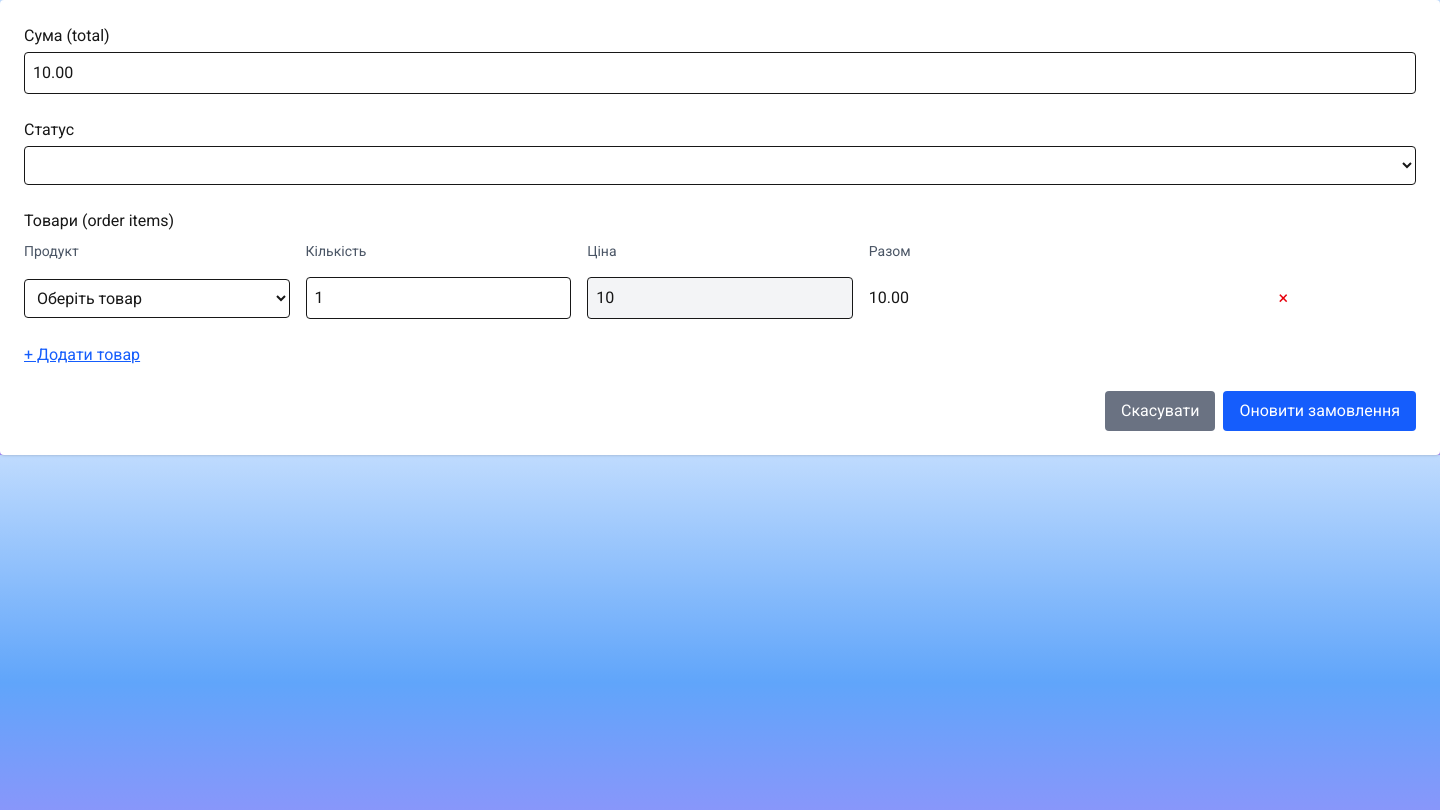
Scenario: OrderForm › видаляє товар зі списку
Click the button titled "Видалити": {"x": 1283, "y": 298} [1150,284,1416,312]
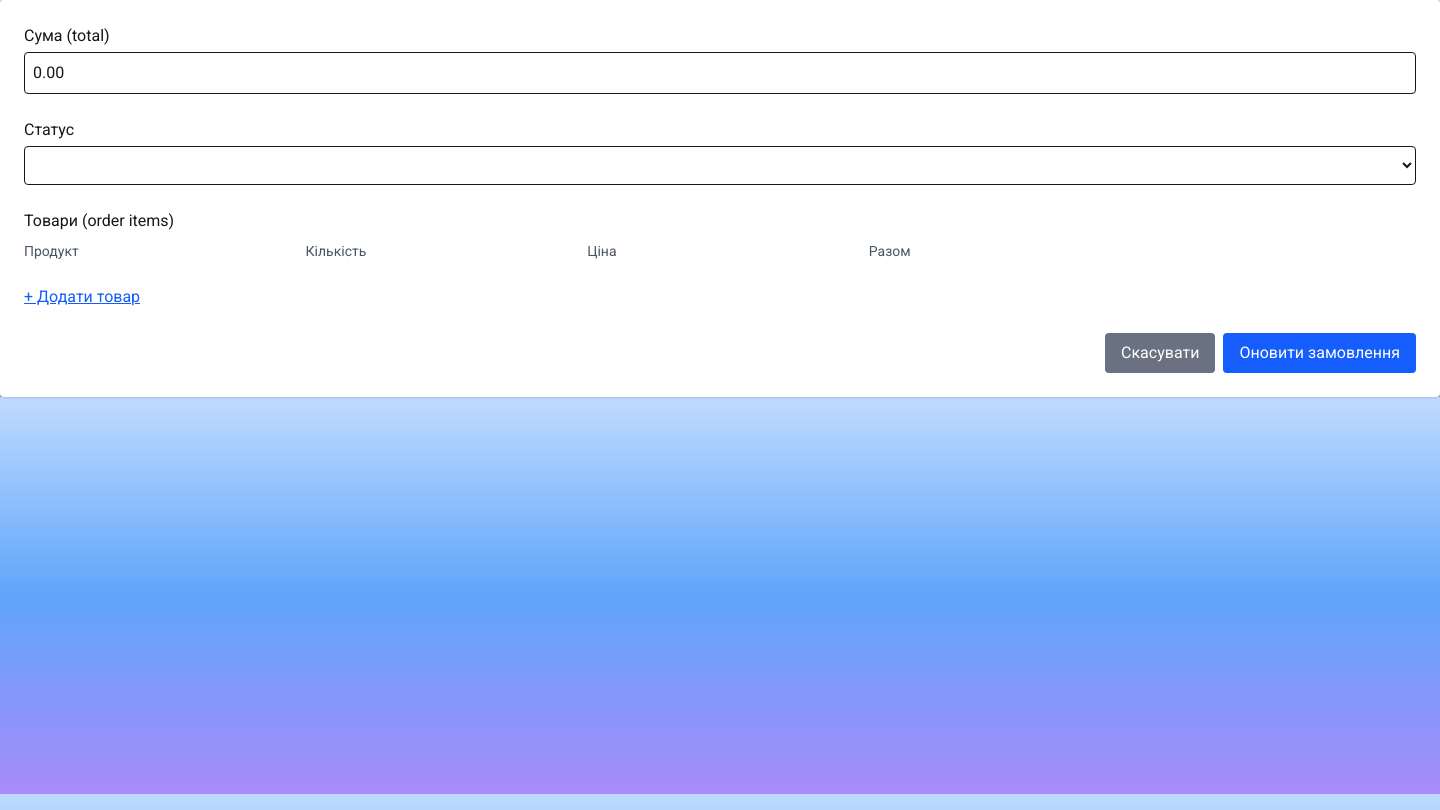
Now the text showing "1" is gone
